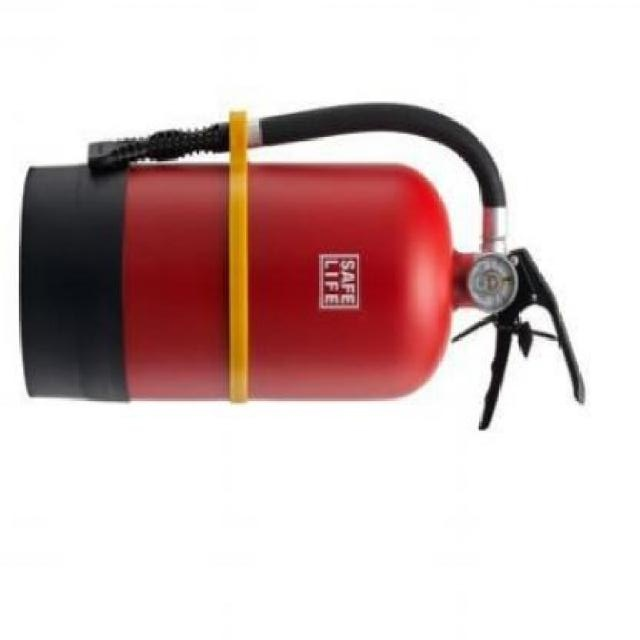fire extinguisher: (19, 100, 587, 432)
